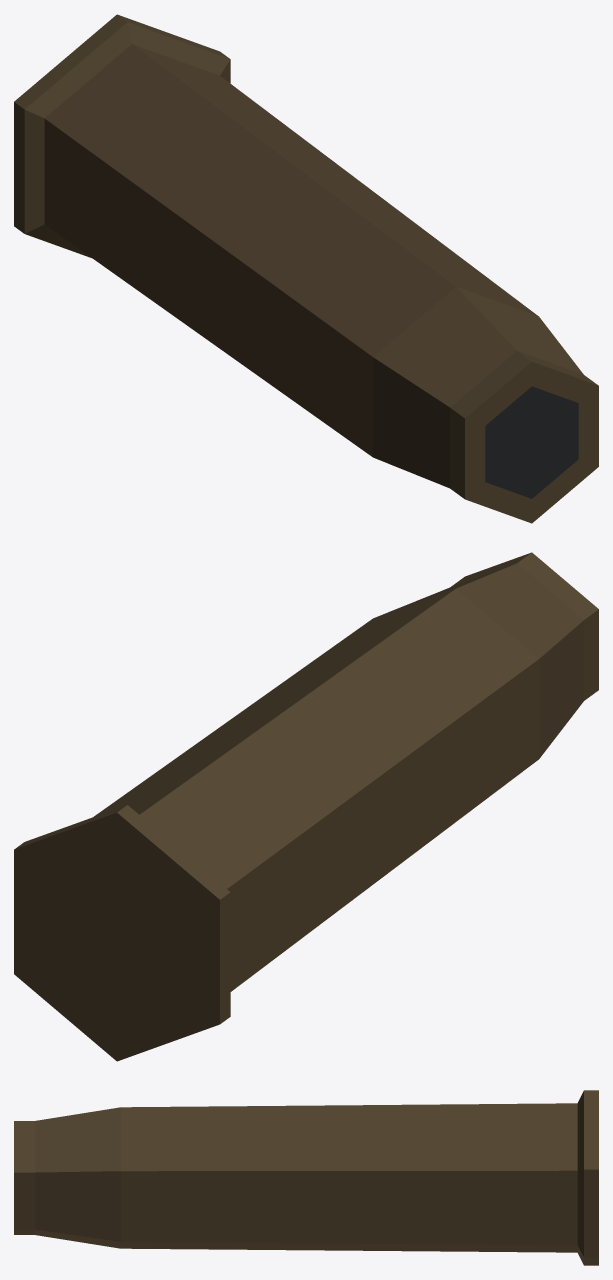
The model's file is SM_Prop_Shell_02.glb.
3 renders of one model, top to bottom at view 1: azimuth 30°, elevation 25°; view 2: azimuth 150°, elevation 25°; view 3: azimuth 270°, elevation 25°, orthographic. The views are drawn at different scales.
Parts seen in each view (by area): view 1: SM_Prop_Shell_02; view 2: SM_Prop_Shell_02; view 3: SM_Prop_Shell_02.
Part boxes in pixels (<box>): SM_Prop_Shell_02: <box>14,14,598,523</box>; SM_Prop_Shell_02: <box>14,552,598,1061</box>; SM_Prop_Shell_02: <box>14,1090,598,1265</box>.
Bounding box in the file's own units: 0.2224 × 0.2568 × 0.7758.
1 material, 1 textured.
